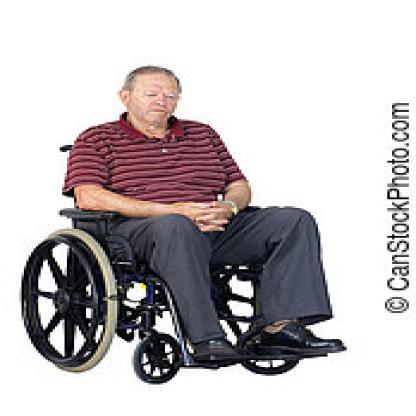wheelchair: (24, 56, 349, 388)
